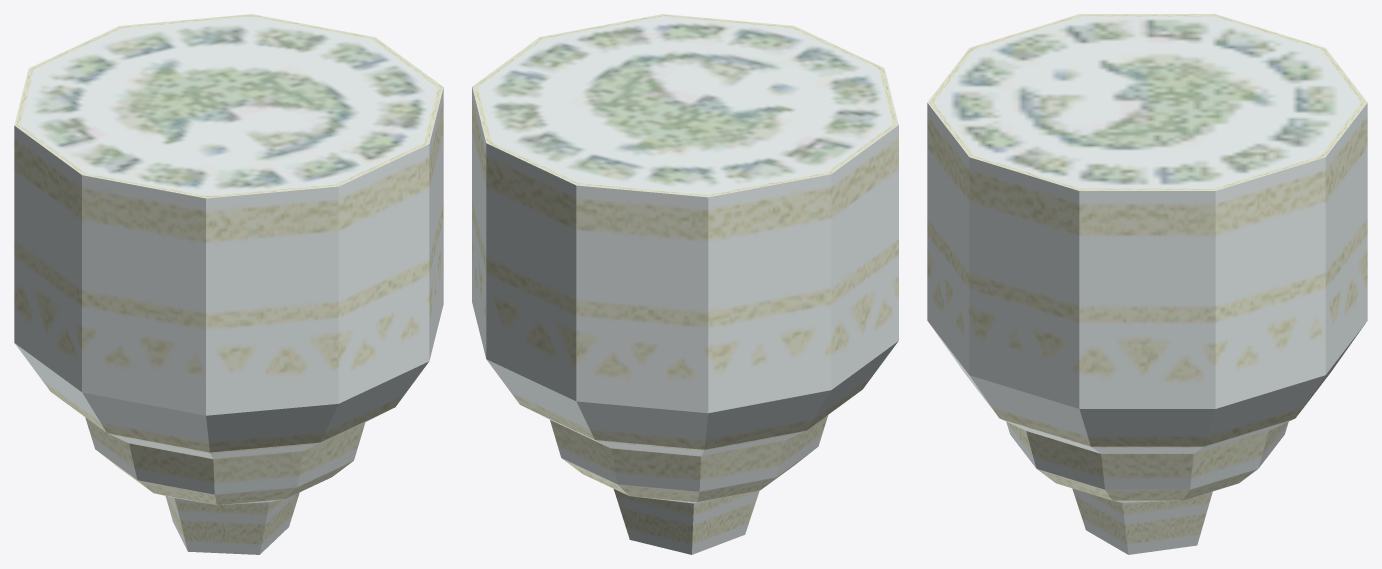
File: WaterPlatformCollision.obj
3 renders of one model, left to right at view 1: azimuth 30°, elevation 25°; view 2: azimuth 150°, elevation 25°; view 3: azimuth 270°, elevation 25°, orthographic.
Size of the model in its own units: 60.18 by 67.81 by 63.28.
2 materials, 2 textured.
